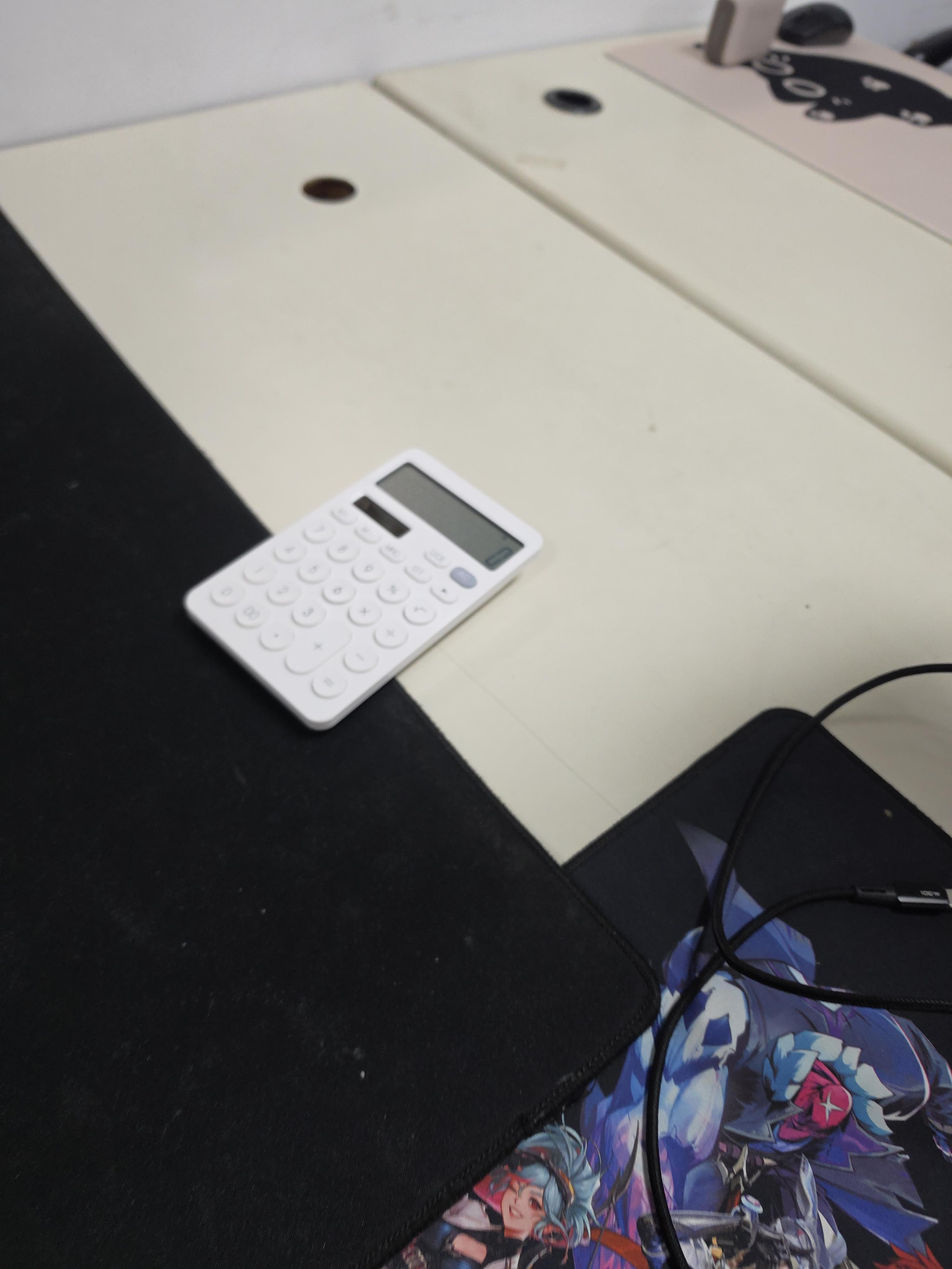calculator: (182, 447, 544, 732)
